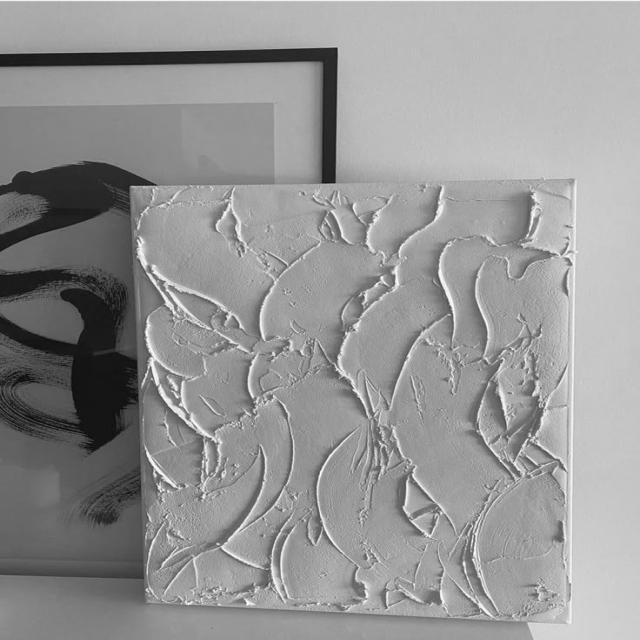trowels marks: (133, 180, 572, 627)
